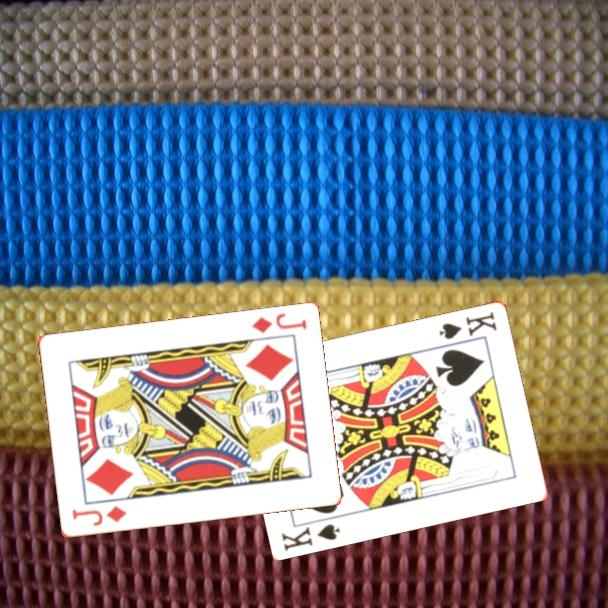d11: (68, 503, 129, 529), (248, 310, 309, 336)
s13: (278, 520, 343, 554), (436, 308, 500, 342)
